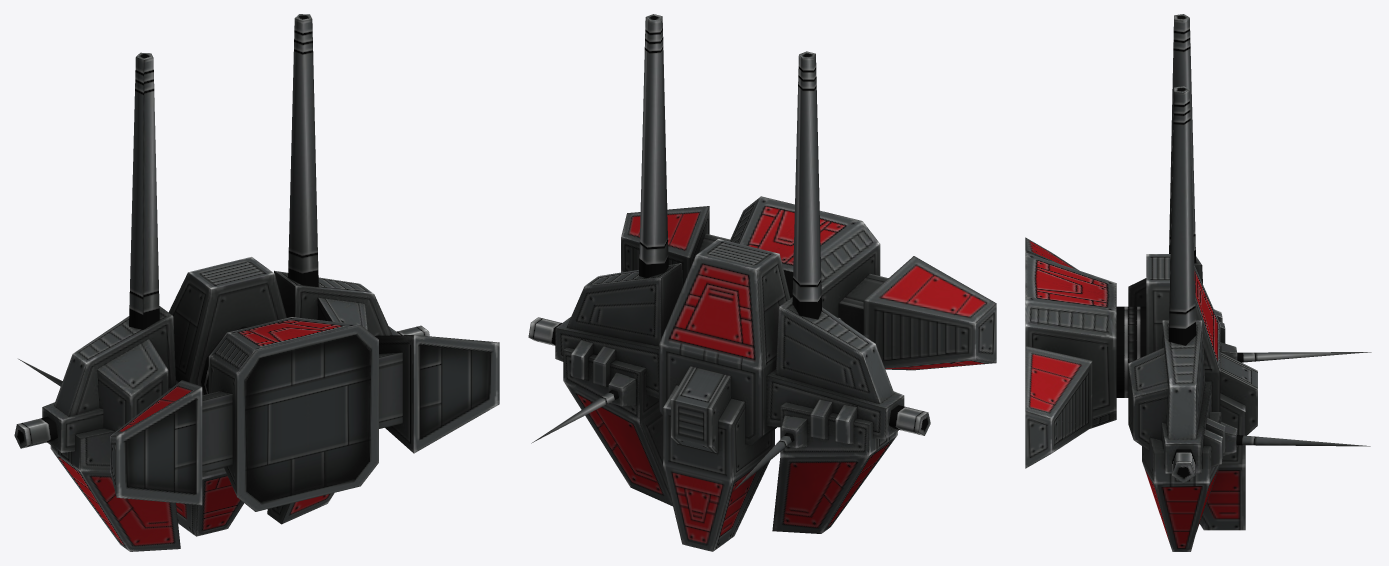
The model's file is TurretSexy.FBX.
The picture shows the model from 3 angles, left to right: view 1: azimuth 30°, elevation 25°; view 2: azimuth 150°, elevation 25°; view 3: azimuth 270°, elevation 25°; orthographic projection. The views are drawn at different scales.
Visible parts, largest first — view 1: Box02; view 2: Box02; view 3: Box02.
Part boxes in pixels (x1=…): Box02: x1=14, y1=14, x2=499, y2=551; Box02: x1=528, y1=14, x2=996, y2=551; Box02: x1=1025, y1=14, x2=1371, y2=551.
Size of the model in its own units: 66.05 by 78.82 by 53.09.
